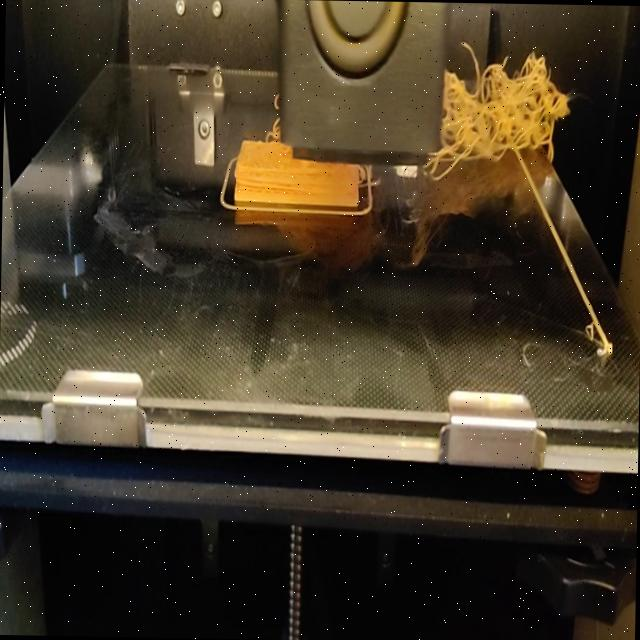spaghetti: (441, 41, 574, 180)
